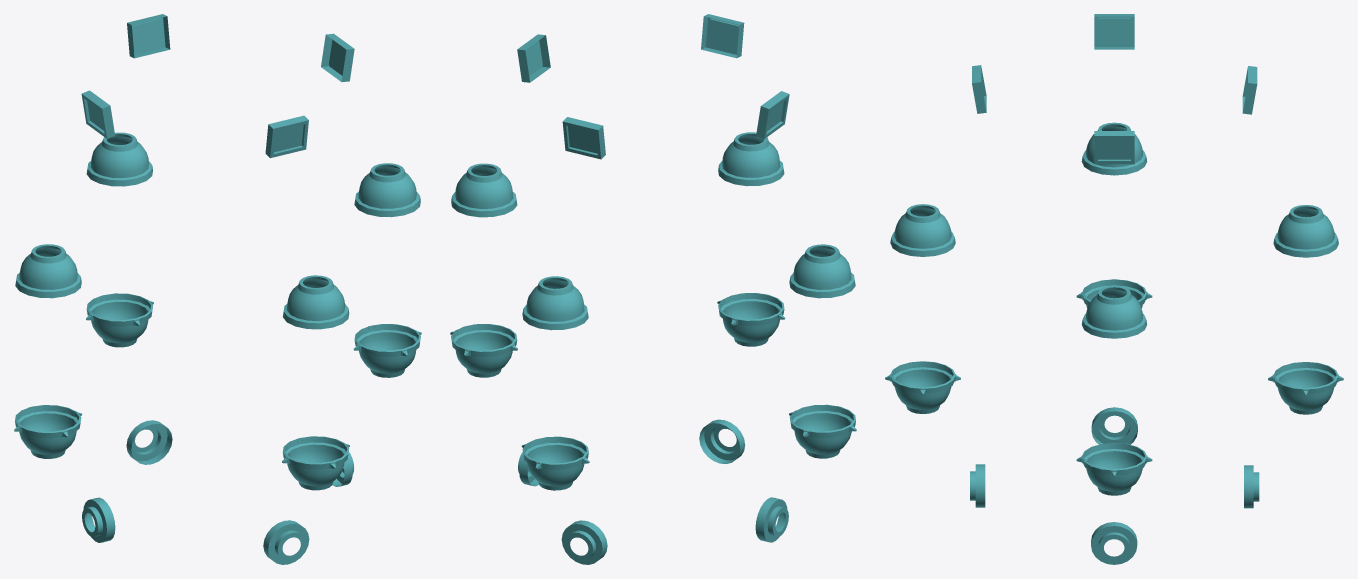
Rendered from engine_cups.fbx.
3 views of the same model, side by side, from view 1: azimuth 30°, elevation 25°; view 2: azimuth 150°, elevation 25°; view 3: azimuth 270°, elevation 25° (orthographic). The views are drawn at different scales.
Parts seen in each view (by area): view 1: engine; view 2: engine; view 3: engine.
Boxes of the visible parts, x1=… form: engine: x1=14, y1=14, x2=421, y2=564; engine: x1=450, y1=14, x2=856, y2=564; engine: x1=885, y1=14, x2=1343, y2=564.
Size of the model in its own units: 337 by 351 by 337.
